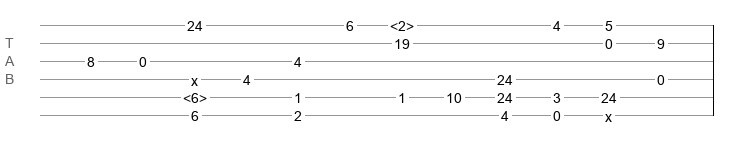0: (139, 54, 147, 64), (553, 108, 561, 118), (605, 36, 613, 46), (657, 72, 665, 82)
1: (294, 90, 302, 100), (398, 90, 406, 100)
10: (446, 90, 462, 100)
19: (394, 36, 410, 46)
2: (294, 108, 302, 118)
24: (187, 18, 203, 28), (497, 90, 513, 100), (497, 72, 513, 82), (601, 90, 617, 100)
3: (553, 90, 561, 100)
4: (243, 72, 251, 82), (294, 54, 302, 64), (501, 108, 509, 118), (553, 18, 561, 28)
5: (605, 18, 613, 28)
6: (191, 108, 199, 118), (346, 18, 354, 28)
8: (87, 54, 95, 64)
9: (657, 36, 665, 46)
harmonic: (183, 90, 207, 100), (390, 18, 414, 28)
x: (191, 73, 198, 81), (605, 109, 612, 117)
